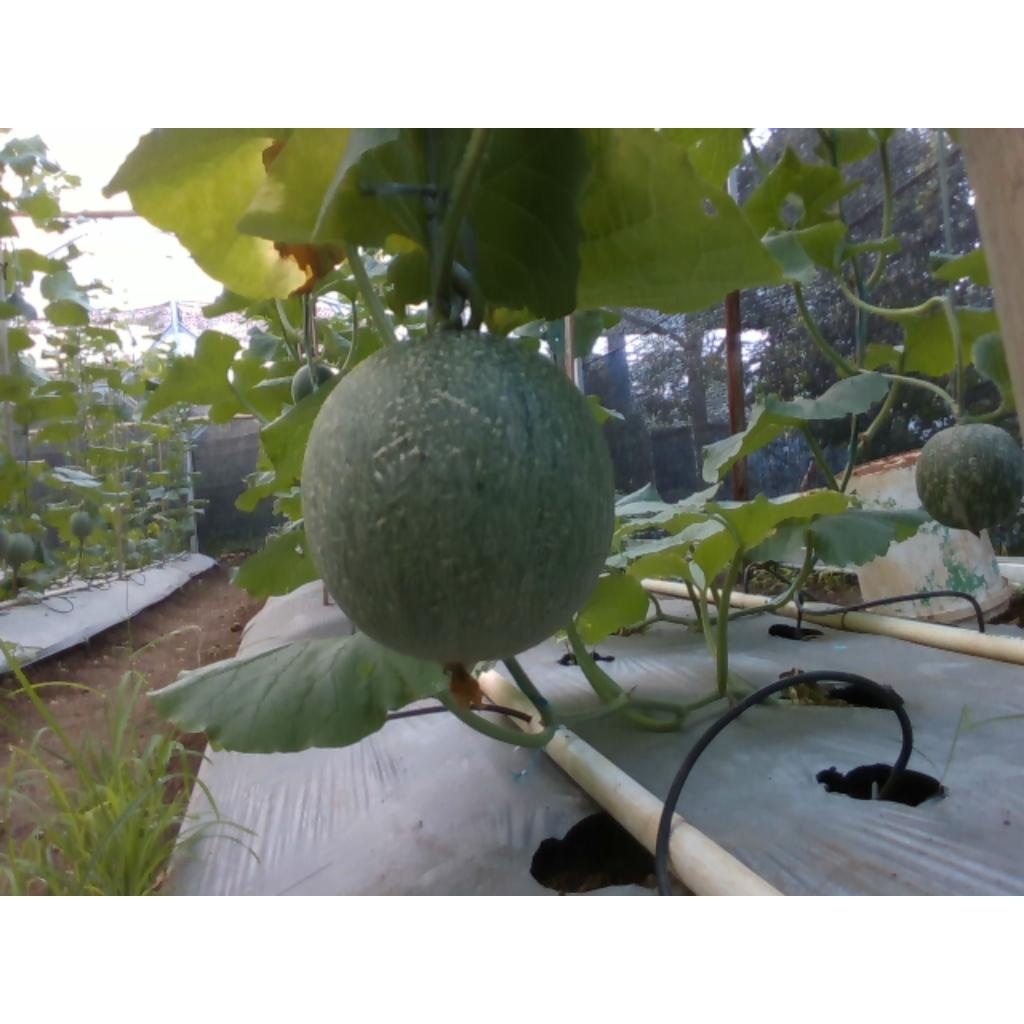melon: (302, 331, 614, 665)
